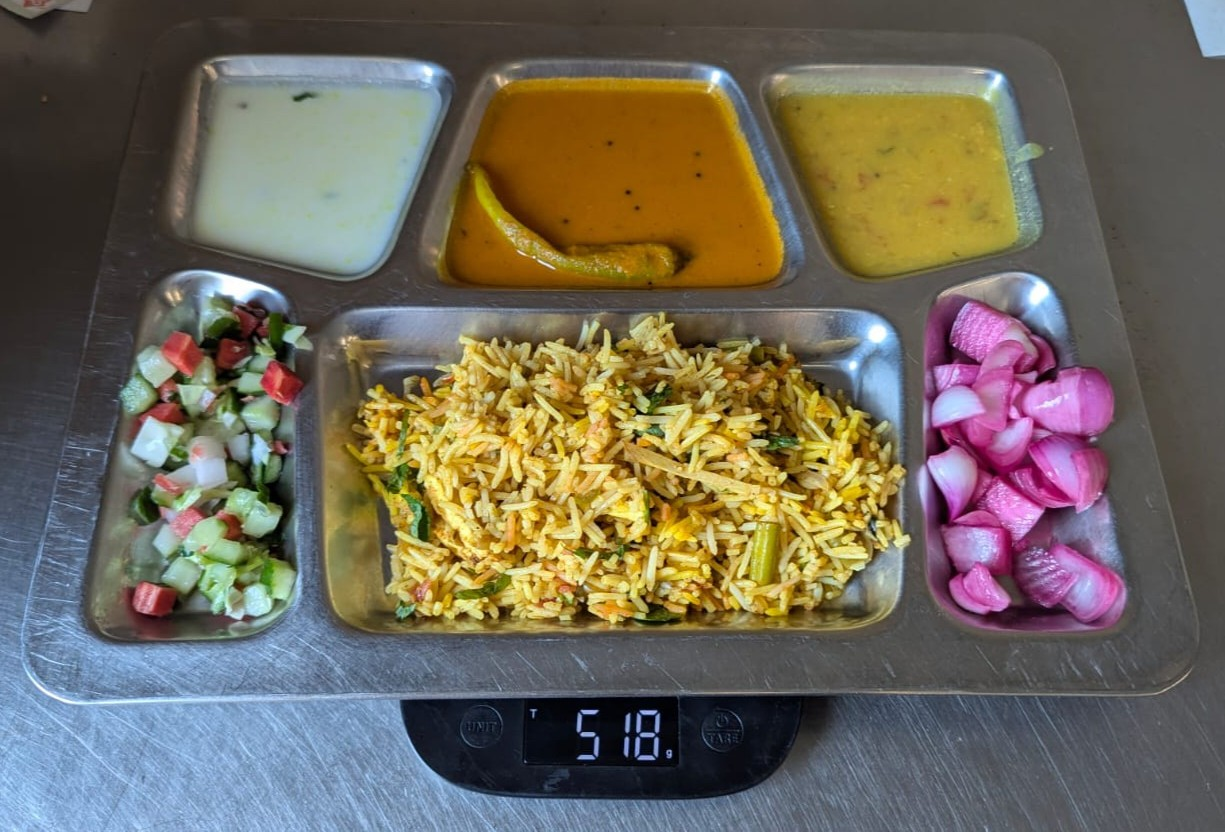bowl: (352, 310, 907, 651), (443, 60, 791, 301), (92, 290, 313, 649), (920, 275, 1126, 653), (767, 53, 1053, 273), (196, 57, 426, 276)
